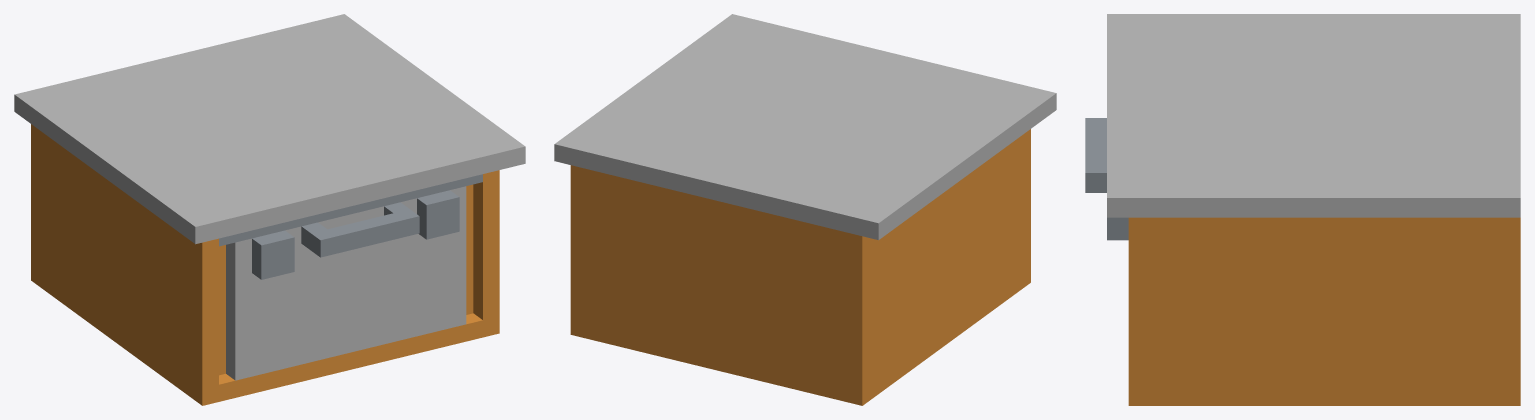
File: obj_dishwasher.obj
3 renders of one model, left to right at view 1: azimuth 30°, elevation 25°; view 2: azimuth 150°, elevation 25°; view 3: azimuth 270°, elevation 25°, orthographic. The views are drawn at different scales.
Parts seen in each view (by area): view 1: obj_dishwasher; view 2: obj_dishwasher; view 3: obj_dishwasher.
Boxes of the visible parts, x1,y1,x2,y2 form: obj_dishwasher: [14, 14, 525, 405]; obj_dishwasher: [554, 14, 1056, 405]; obj_dishwasher: [1085, 14, 1520, 405].
Bounding box in the file's own units: 20 × 11 × 20.
1 material, 1 textured.
